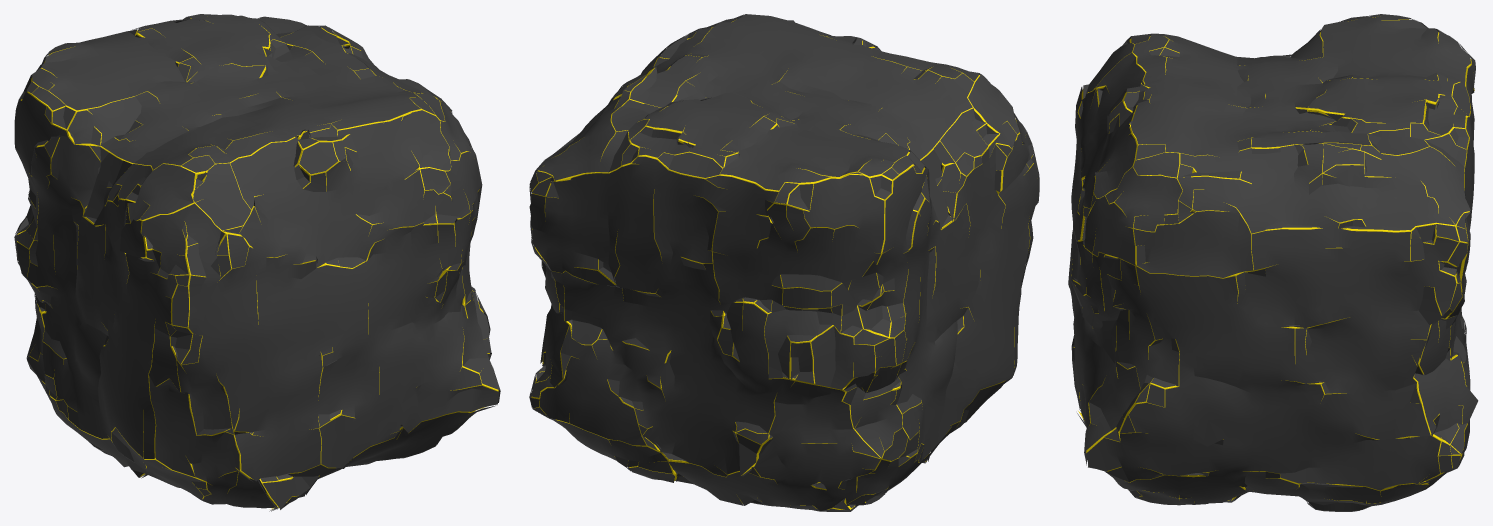
The model's file is Lava.fbx.
3 renders of one model, left to right at view 1: azimuth 30°, elevation 25°; view 2: azimuth 150°, elevation 25°; view 3: azimuth 270°, elevation 25°, orthographic. The views are drawn at different scales.
Visible parts, largest first — view 1: Cube; view 2: Cube; view 3: Cube.
Part boxes in pixels (box(x1,y1,x2,y2)): Cube: box(14, 14, 500, 511); Cube: box(529, 14, 1039, 511); Cube: box(1068, 14, 1478, 511).
Size of the model in its own units: 202 by 201 by 204.
